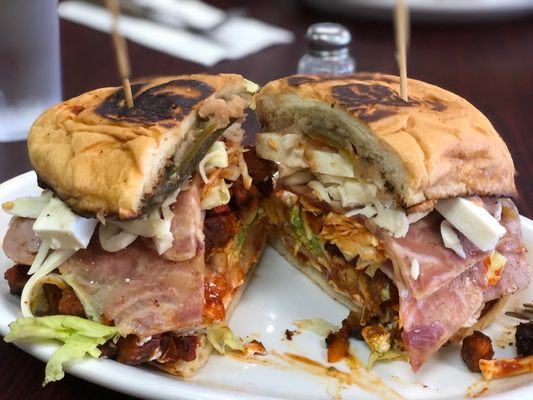pizza: (0, 1, 62, 141)
salad: (392, 1, 412, 103)
soup: (2, 71, 275, 384), (253, 71, 531, 373)
